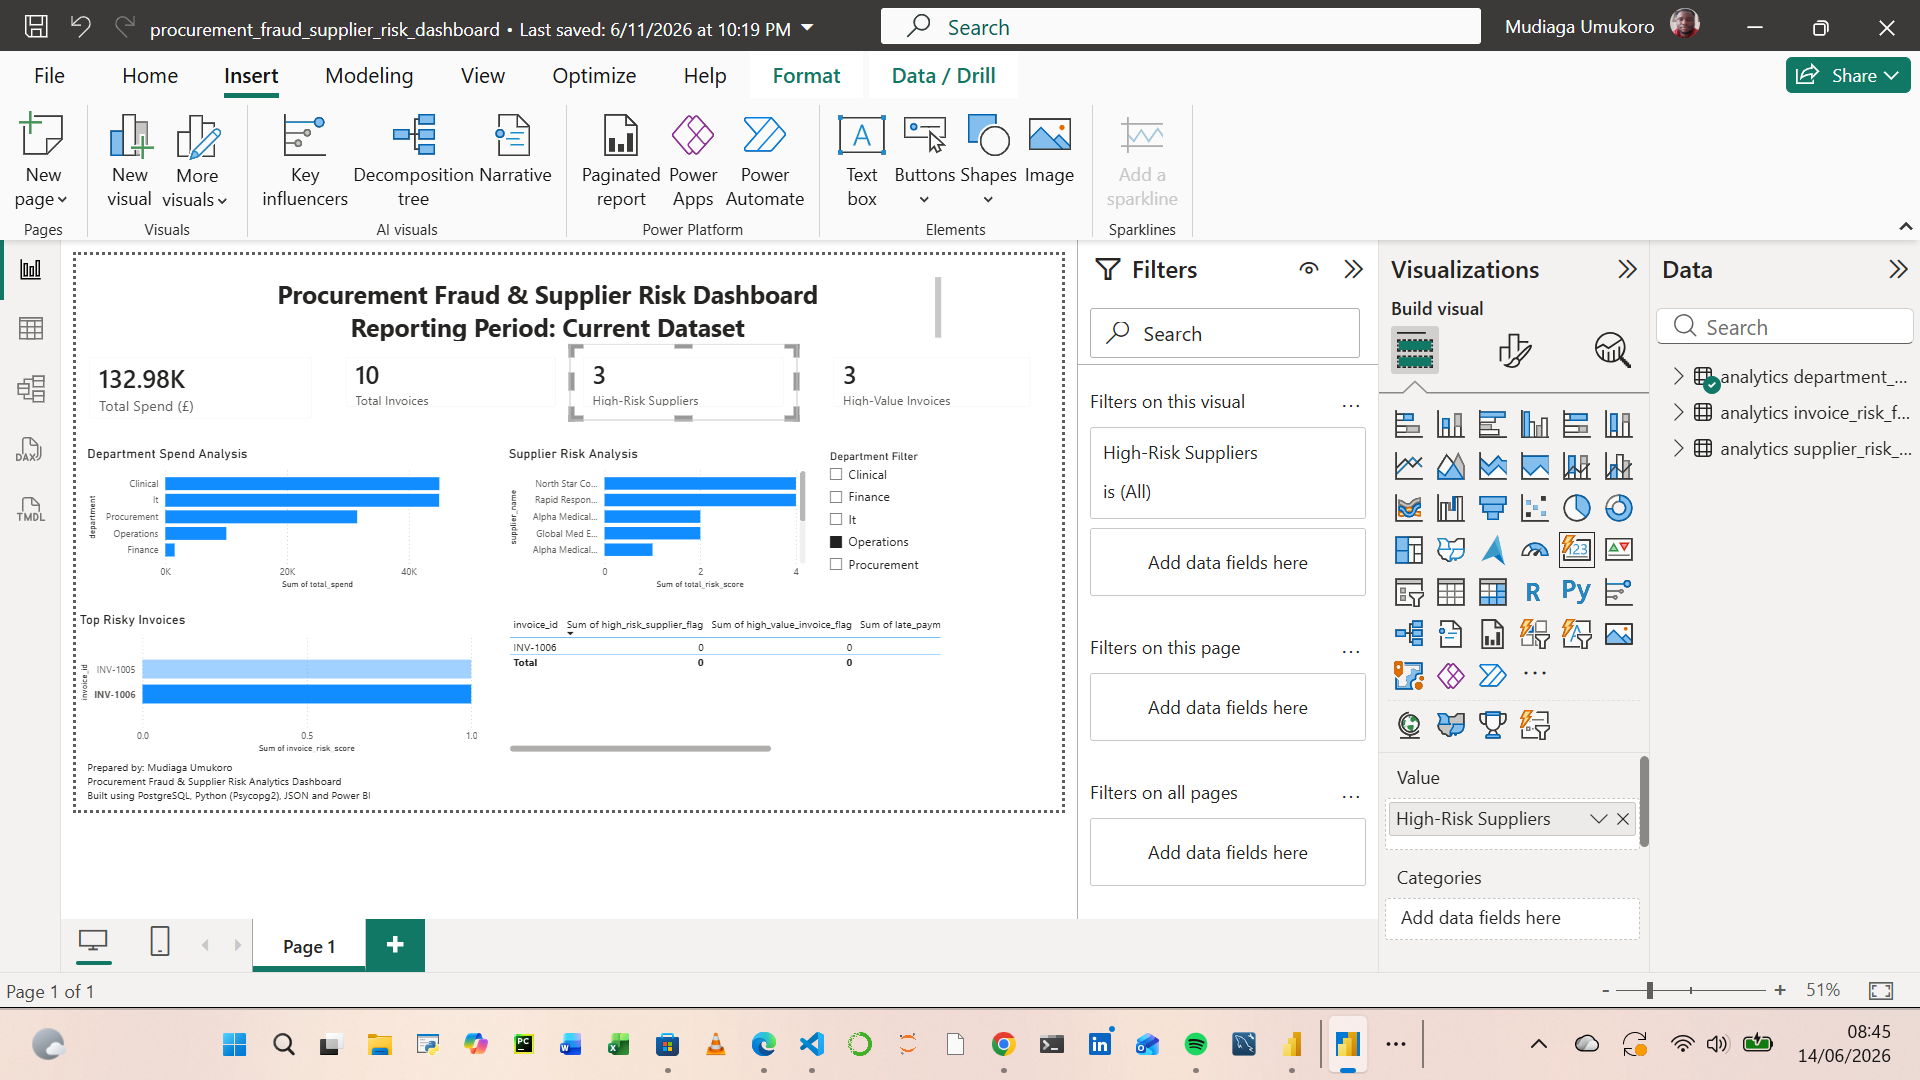

What the dashboard file says about the page in this screenshot:
{"tool":"powerbi","page":{"name":"Page 1","canvas":[1280,720],"ordinal":0},"visuals":[{"type":"textbox","box":[10,0,280,280],"z":0},{"type":"cardVisual","fields":{"Data":["Sum(analytics department_spend_summary.total_spend)"]},"box":[9.4,139.8,323.2,166.3],"z":2},{"type":"cardVisual","fields":{"Data":["Sum(analytics department_spend_summary.total_invoices)"]},"box":[332.6,139.8,308,166.3],"z":3},{"type":"cardVisual","fields":{"Data":["Sum(analytics department_spend_summary.high_risk_supplier_count)"]},"box":[640.6,139.8,296.7,166.3],"z":4},{"type":"cardVisual","fields":{"Data":["Sum(analytics department_spend_summary.high_value_invoice_count)"]},"box":[965.7,139.8,291,166.3],"z":5},{"type":"clusteredBarChart","title":"Department Spend Analysis","fields":{"Category":["analytics department_spend_summary.department"],"Y":["Sum(analytics department_spend_summary.total_spend)"]},"box":[9.4,306.1,515.9,183.3],"z":6},{"type":"clusteredBarChart","title":"Supplier Risk Analysis","fields":{"Category":["analytics supplier_risk_summary.supplier_name"],"Y":["Sum(analytics supplier_risk_summary.total_risk_score)"]},"box":[557.5,325,395,189],"z":7},{"type":"tableEx","fields":{"Values":["analytics invoice_risk_flags.invoice_id","Sum(analytics invoice_risk_flags.high_risk_supplier_flag)","Sum(analytics invoice_risk_flags.high_value_invoice_flag)","Sum(analytics invoice_risk_flags.late_payment_flag)","Sum(analytics invoice_risk_flags.missing_po_flag)","Sum(analytics invoice_risk_flags.invoice_risk_score)"]},"box":[557.5,531,395,189],"z":8},{"type":"clusteredBarChart","title":"Top Risky Invoices","fields":{"Category":["analytics invoice_risk_flags.invoice_id"],"Y":["Sum(analytics invoice_risk_flags.invoice_risk_score)"]},"box":[0,489.5,525.4,189],"z":9},{"type":"textbox","box":[103.6,22.7,1025,92.3],"z":11},{"type":"slicer","fields":{"Values":["analytics invoice_risk_flags.department"]},"box":[966,325,291,189],"z":12}]}

Visuals, with their boxes on the page's 1280x720 design canvas (x1, y1, x2, y2). These are canvas units, not pixel positions in the 1920x1080 screenshot, which may show the page scaled, cropped or inside an application window:
textbox: select_region(10, 0, 290, 280)
cardVisual - Sum(analytics department_spend_summary.total_spend): select_region(9, 140, 333, 306)
cardVisual - Sum(analytics department_spend_summary.total_invoices): select_region(333, 140, 641, 306)
cardVisual - Sum(analytics department_spend_summary.high_risk_supplier_count): select_region(641, 140, 937, 306)
cardVisual - Sum(analytics department_spend_summary.high_value_invoice_count): select_region(966, 140, 1257, 306)
"Department Spend Analysis" clusteredBarChart: select_region(9, 306, 525, 489)
"Supplier Risk Analysis" clusteredBarChart: select_region(558, 325, 952, 514)
tableEx - analytics invoice_risk_flags.invoice_id x Sum(analytics invoice_risk_flags.high_risk_supplier_flag): select_region(558, 531, 952, 720)
"Top Risky Invoices" clusteredBarChart: select_region(0, 490, 525, 678)
textbox: select_region(104, 23, 1129, 115)
slicer - analytics invoice_risk_flags.department: select_region(966, 325, 1257, 514)
